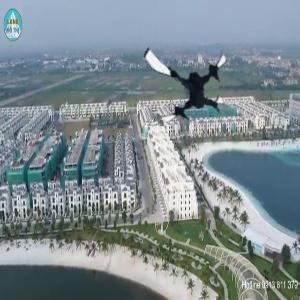drone: (137, 30, 238, 131)
